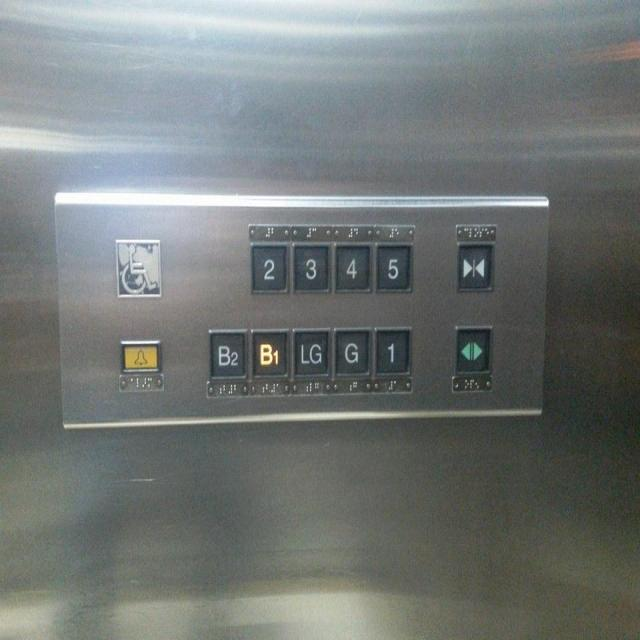1: (371, 326, 412, 377)
2: (249, 241, 291, 296)
3: (290, 241, 332, 293)
4: (330, 241, 372, 296)
5: (371, 241, 413, 294)
B1: (248, 327, 289, 381)
B2: (206, 327, 248, 381)
CH: (114, 236, 162, 298)
G: (329, 324, 372, 380)
LG: (289, 326, 330, 378)
alarm: (117, 338, 162, 372)
close: (455, 241, 493, 292)
open: (452, 325, 490, 375)
